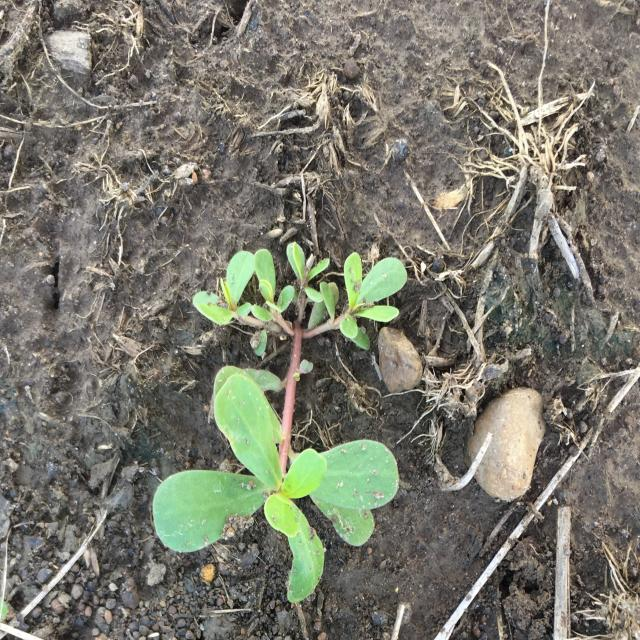Purslane: (152, 242, 408, 602)
